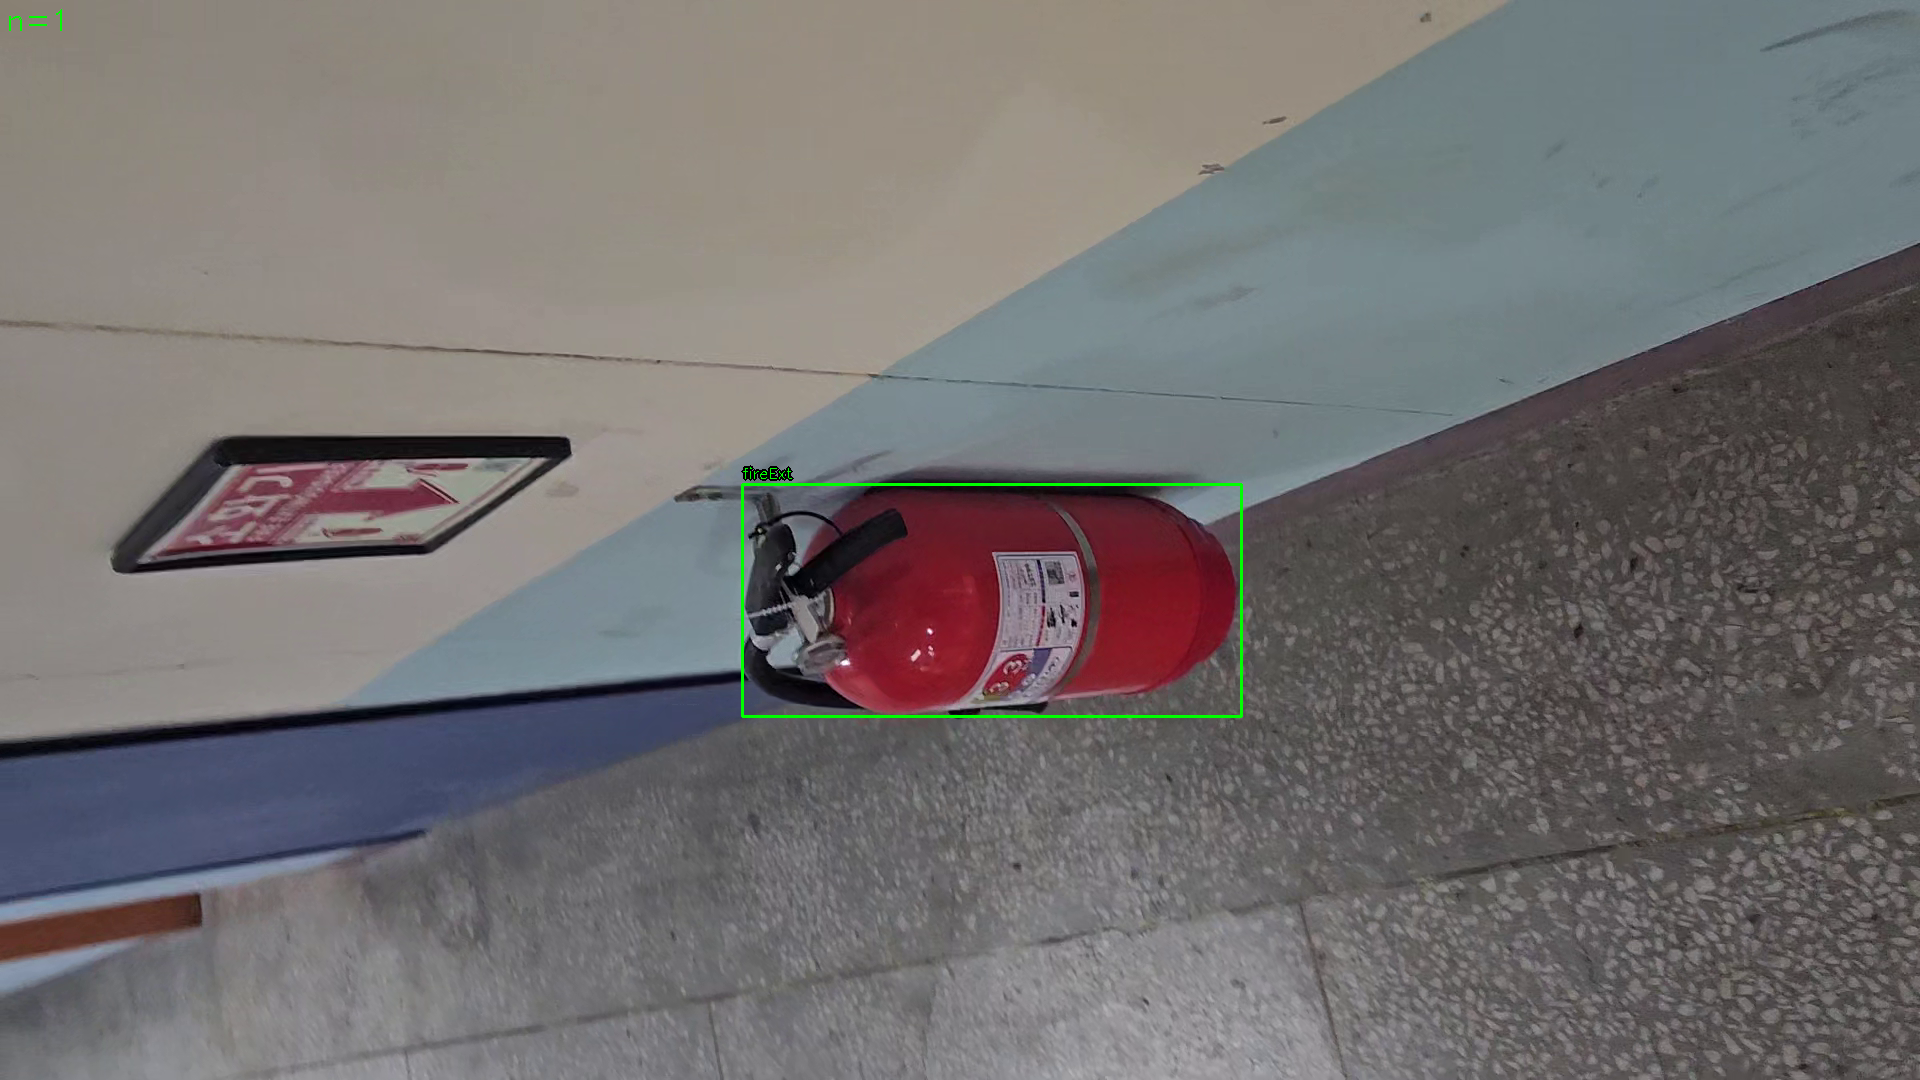lane: (742, 484, 1242, 717)
